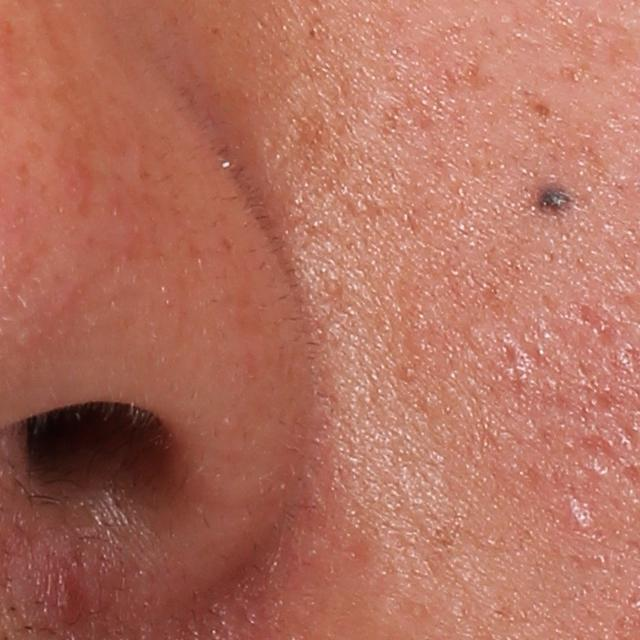nevus: (531, 177, 584, 220)
papule: (44, 566, 95, 630)
